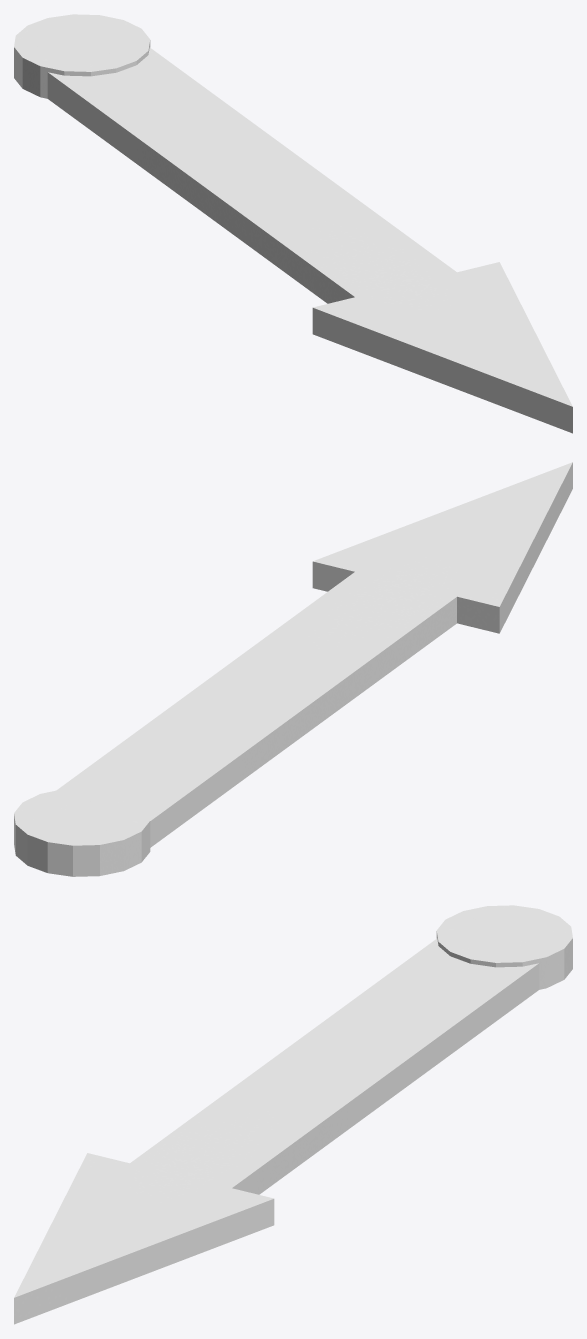
The model's file is needle.gltf.
3 renders of one model, top to bottom at view 1: azimuth 30°, elevation 25°; view 2: azimuth 150°, elevation 25°; view 3: azimuth 330°, elevation 25°, orthographic.
Visible parts, largest first — view 1: jx_needle; view 2: jx_needle; view 3: jx_needle.
Boxes of the visible parts, bbox=[...] form: jx_needle: bbox=[14, 14, 572, 433]; jx_needle: bbox=[14, 462, 572, 876]; jx_needle: bbox=[14, 905, 572, 1324].
Size of the model in its own units: 0.22 by 0.035 by 1.07.
1 material, 1 textured.
